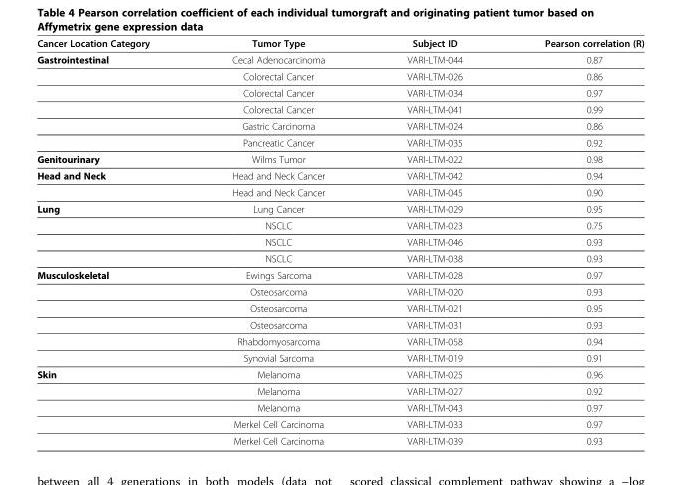table: (36, 37, 643, 446)
table column: (190, 37, 365, 446), (36, 37, 190, 446), (502, 37, 643, 446), (365, 37, 502, 446)
table column header: (36, 37, 643, 51)
table row: (36, 67, 643, 84), (36, 100, 643, 117), (36, 117, 643, 134), (36, 150, 643, 167), (36, 183, 643, 200), (36, 216, 643, 233), (36, 233, 643, 250), (36, 266, 643, 283), (36, 299, 643, 316), (36, 332, 643, 349), (36, 365, 643, 382), (36, 382, 643, 399), (36, 415, 643, 432), (36, 51, 643, 67), (36, 84, 643, 100), (36, 134, 643, 150), (36, 167, 643, 183), (36, 200, 643, 216), (36, 250, 643, 266), (36, 283, 643, 299), (36, 316, 643, 332), (36, 349, 643, 365), (36, 399, 643, 415), (36, 37, 643, 51), (36, 432, 643, 446)
table spanning cell: (36, 51, 190, 150), (36, 266, 190, 365), (36, 365, 190, 446), (36, 200, 190, 266), (36, 167, 190, 200)
